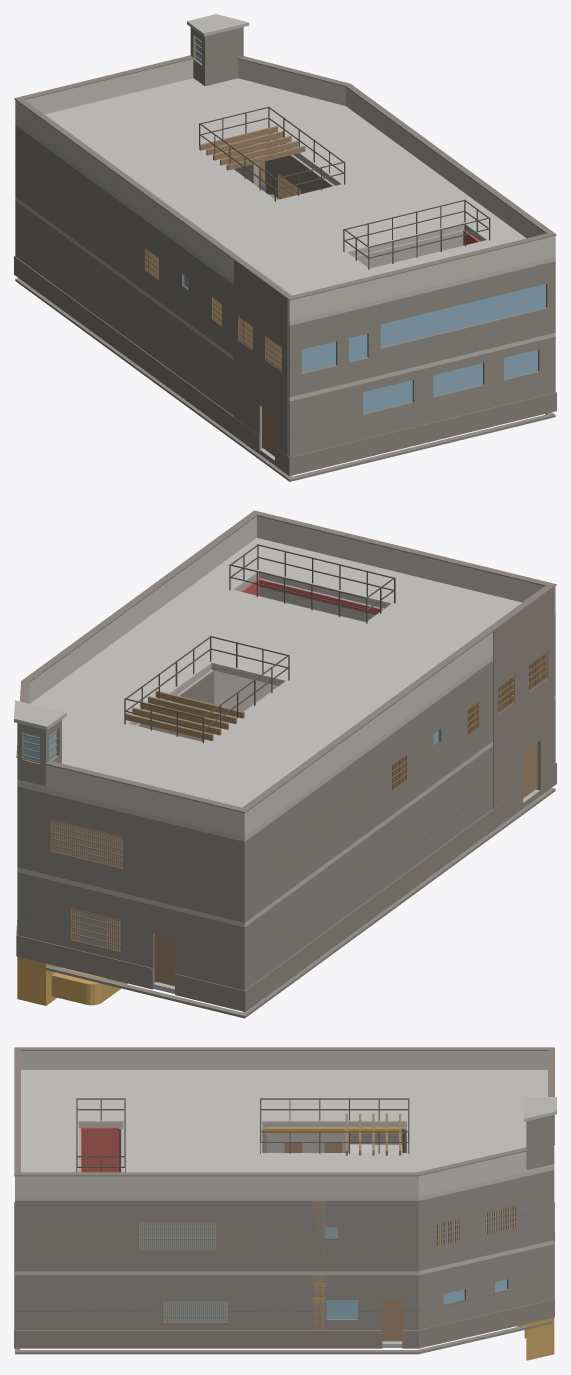
File: taif_house_V6.2.glb
3 views of the same model, one above another, from view 1: azimuth 30°, elevation 25°; view 2: azimuth 150°, elevation 25°; view 3: azimuth 270°, elevation 25° (orthographic). The views are drawn at different scales.
Parts seen in each view (by area): view 1: roof_finish_floor, gf_outer, chr_base_plaster_roof_parapet, ff_outer, chr_base_stone_plinth, chr_base_stone_feature_wall_00, chr_base_stone_roof_coping, ff_outer_sill57, ff_glass_057, ff_outer_head57, chr_base_bronze_roof_railings, roof_slab (+17 smaller); view 2: roof_finish_floor, ff_outer, gf_outer, chr_base_plaster_roof_parapet, chr_base_stone_plinth, chr_base_stone_feature_wall_00, chr_base_stone_roof_coping, chr_base_bronze_roof_railings, roof_slab, gf_air_outline, chr_pergola_timber_beams, chr_base_timber_mashrabiya_00 (+18 smaller); view 3: roof_finish_floor, ff_outer, gf_outer, chr_base_plaster_roof_parapet, chr_base_stone_plinth, chr_base_stone_roof_coping, roof_slab, gf_air_outline, ff_slab, chr_base_bronze_roof_railings, ff_glass_056, chr_base_timber_mashrabiya_07 (+28 smaller).
Part boxes in pixels (bbox=[...]): roof_finish_floor: bbox=[15, 78, 555, 321]; gf_outer: bbox=[15, 201, 555, 457]; chr_base_plaster_roof_parapet: bbox=[15, 59, 555, 319]; ff_outer: bbox=[15, 125, 555, 397]; chr_base_stone_plinth: bbox=[14, 256, 556, 476]; chr_base_stone_feature_wall_00: bbox=[234, 260, 288, 465]; chr_base_stone_roof_coping: bbox=[14, 55, 556, 300]; ff_outer_sill57: bbox=[380, 307, 547, 374]; ff_glass_057: bbox=[380, 284, 545, 347]; ff_outer_head57: bbox=[380, 263, 547, 323]; chr_base_bronze_roof_railings: bbox=[199, 106, 490, 269]; roof_slab: bbox=[15, 121, 555, 325]; roof_finish_floor: bbox=[17, 538, 555, 837]; ff_outer: bbox=[17, 615, 555, 922]; gf_outer: bbox=[17, 700, 555, 990]; chr_base_plaster_roof_parapet: bbox=[27, 516, 555, 834]; chr_base_stone_plinth: bbox=[16, 763, 556, 1011]; chr_base_stone_feature_wall_00: bbox=[493, 587, 554, 808]; chr_base_stone_roof_coping: bbox=[16, 510, 556, 813]; chr_base_bronze_roof_railings: bbox=[124, 544, 395, 743]; roof_slab: bbox=[17, 573, 555, 841]; gf_air_outline: bbox=[46, 788, 555, 1018]; chr_pergola_timber_beams: bbox=[125, 690, 244, 740]; chr_base_timber_mashrabiya_00: bbox=[49, 817, 124, 870]; roof_finish_floor: bbox=[15, 1070, 554, 1196]; ff_outer: bbox=[15, 1133, 554, 1271]; gf_outer: bbox=[15, 1244, 554, 1329]; chr_base_plaster_roof_parapet: bbox=[15, 1051, 547, 1194]; chr_base_stone_plinth: bbox=[14, 1202, 554, 1348]; chr_base_stone_roof_coping: bbox=[14, 1047, 554, 1176]; roof_slab: bbox=[15, 1123, 554, 1200]; gf_air_outline: bbox=[15, 1321, 552, 1354]; ff_slab: bbox=[15, 1240, 554, 1275]; chr_base_bronze_roof_railings: bbox=[76, 1098, 409, 1172]; ff_glass_056: bbox=[139, 1223, 216, 1249]; chr_base_timber_mashrabiya_07: bbox=[137, 1221, 217, 1251].
Bounding box in the file's own units: 13.64 × 12.2 × 24.42.
